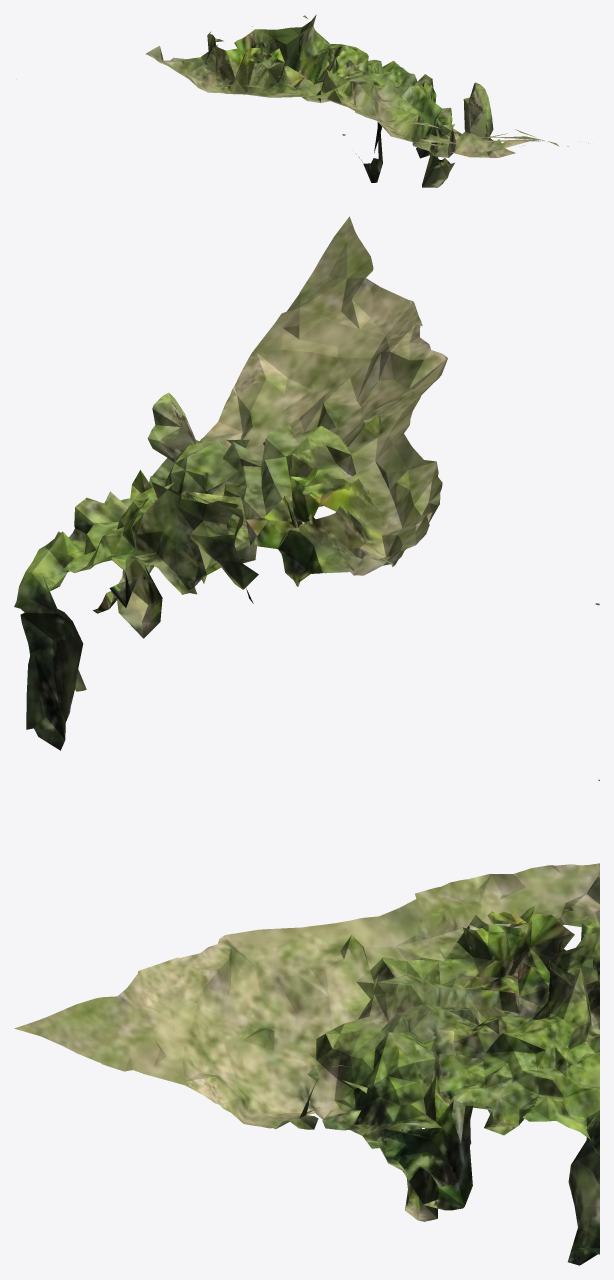
3 views of the same model, one above another, from view 1: azimuth 30°, elevation 25°; view 2: azimuth 150°, elevation 25°; view 3: azimuth 270°, elevation 25° (orthographic). The views are drawn at different scales.
Size of the model in its own units: 26.11 by 12.32 by 25.95.
Materials: 2 (2 with a texture image).
